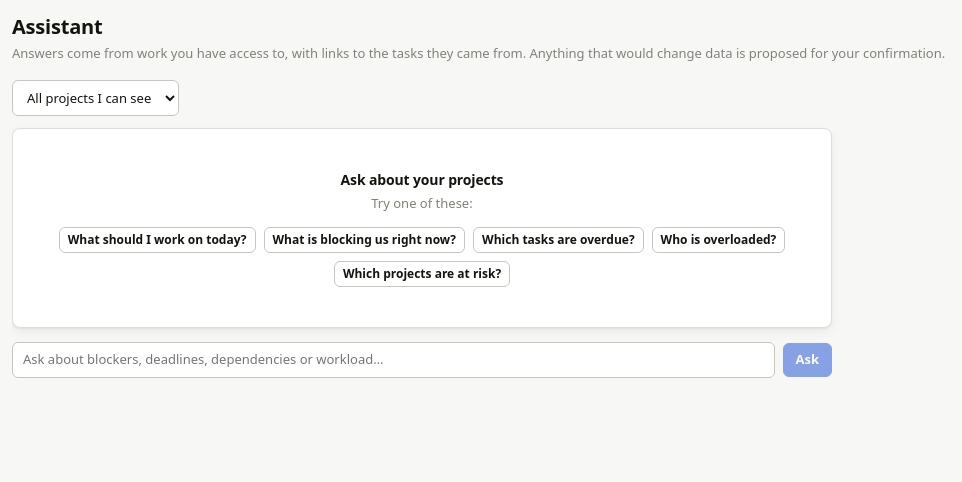
Scenario: Assistant › proposes a change without applying it, and says so
Type "Create a task to chase legal" into the field named "Question" at (393, 360), box [12,342,774,378]
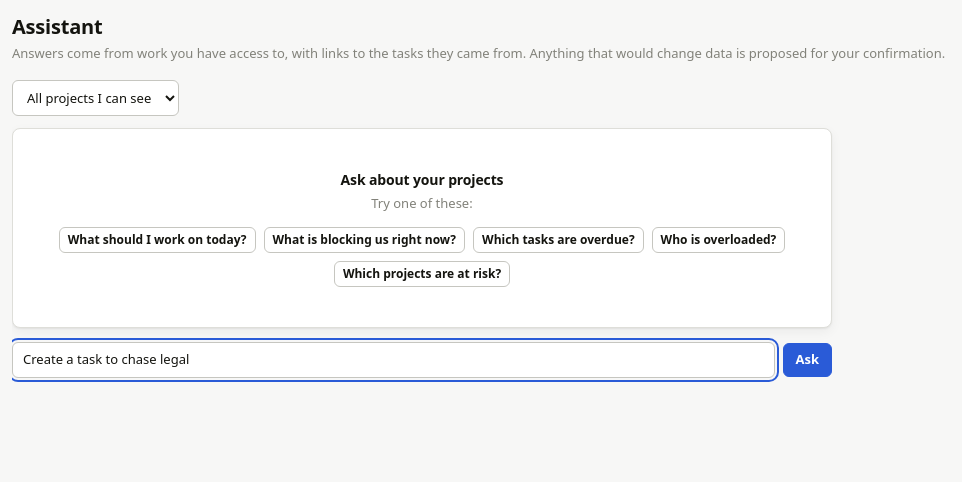
Click the button "Ask" at (807, 360), box [782,343,832,376]
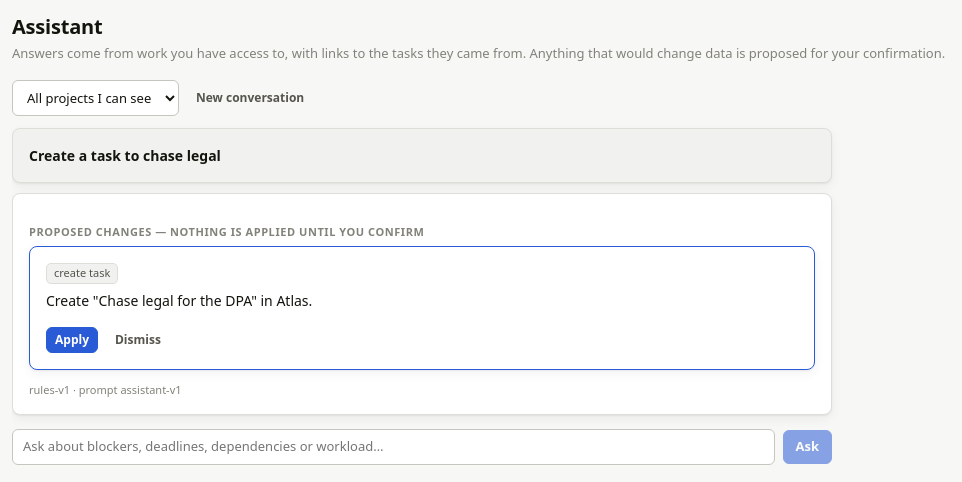
Now the text "Proposed changes — nothing is applied until you confirm" is shown, box [29,224,424,238]
Now the button "Apply" is shown, box [46,326,98,352]
